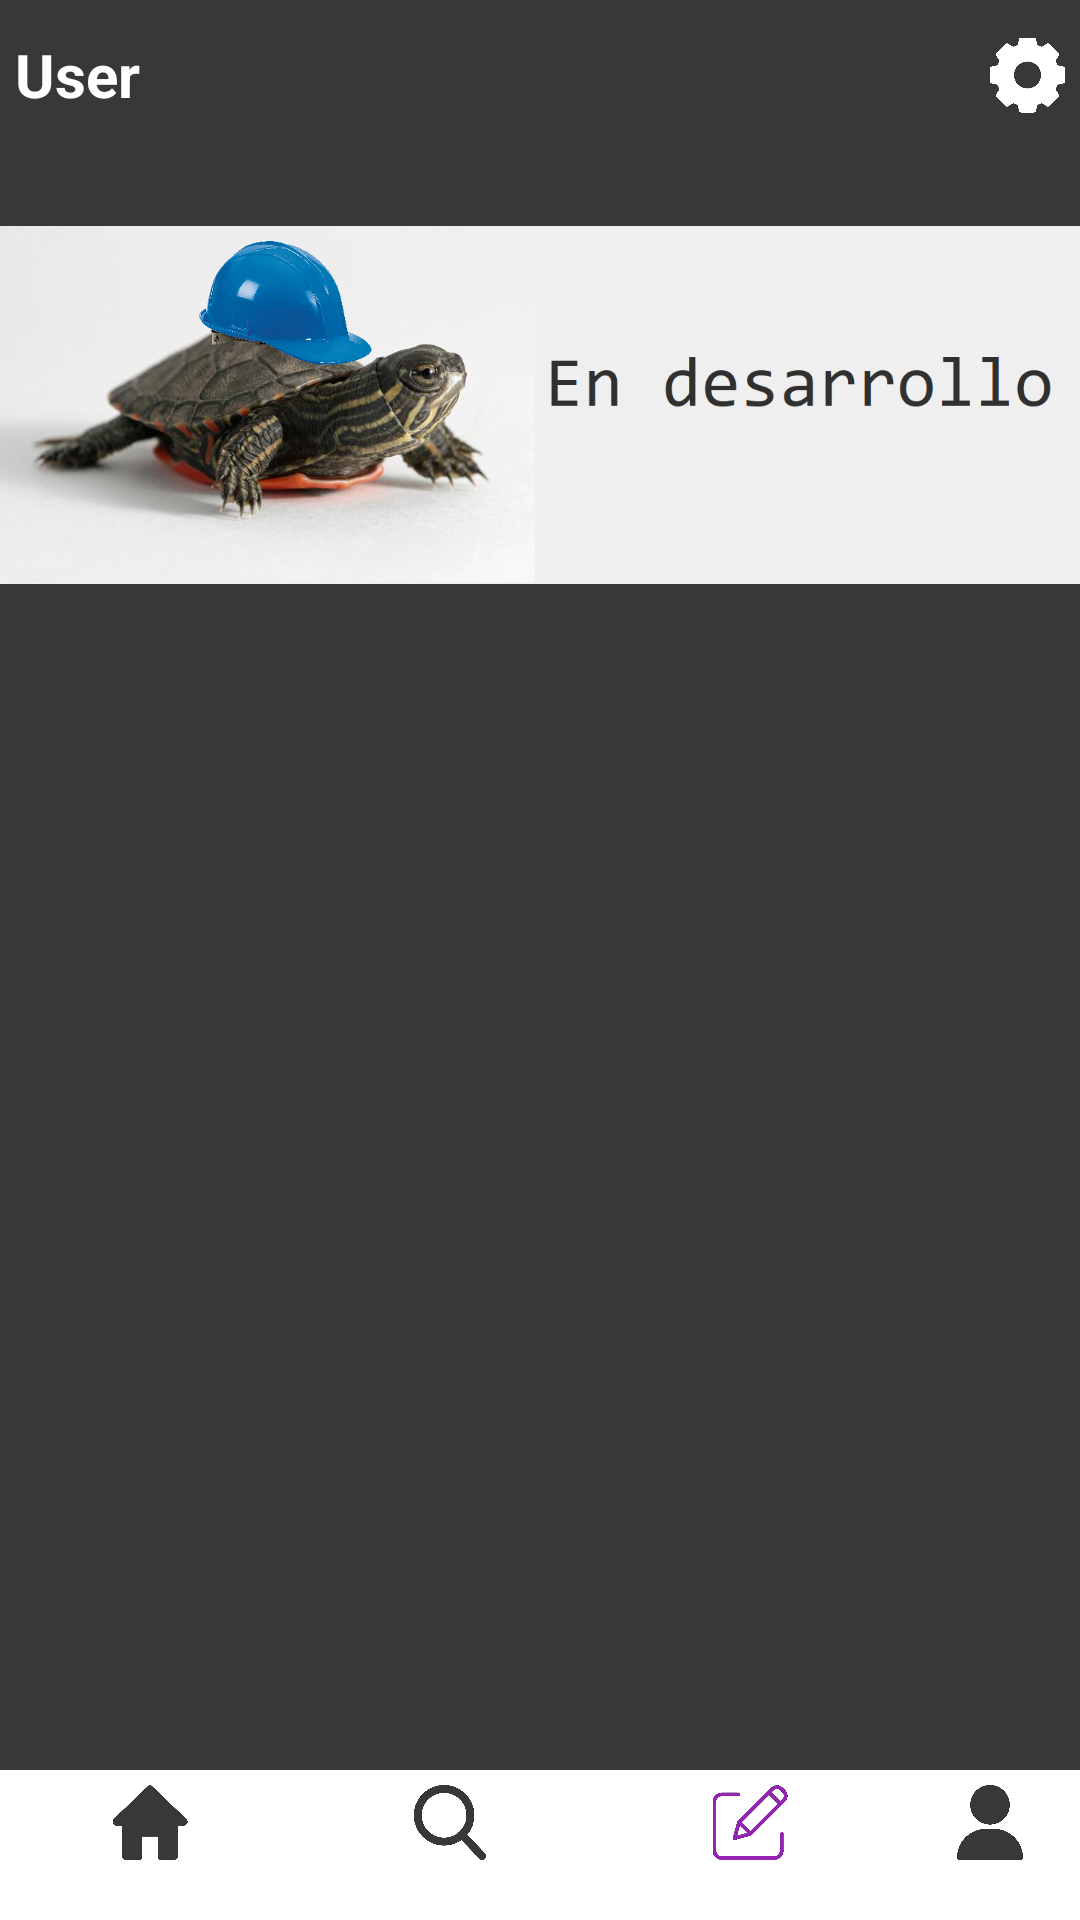

Icons on this 1080 x 1920 Android screen, each with its box as (x1, y1, x2, y2):
edit: (713, 1785, 788, 1860)
home: (113, 1785, 188, 1860)
search: (414, 1785, 486, 1860)
setting: (990, 38, 1065, 113)
user: (957, 1785, 1023, 1860)
